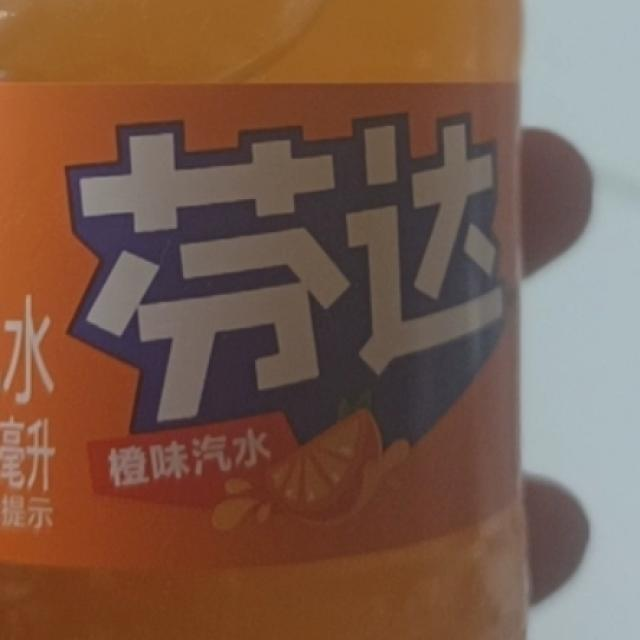orange: (58, 94, 519, 525)
